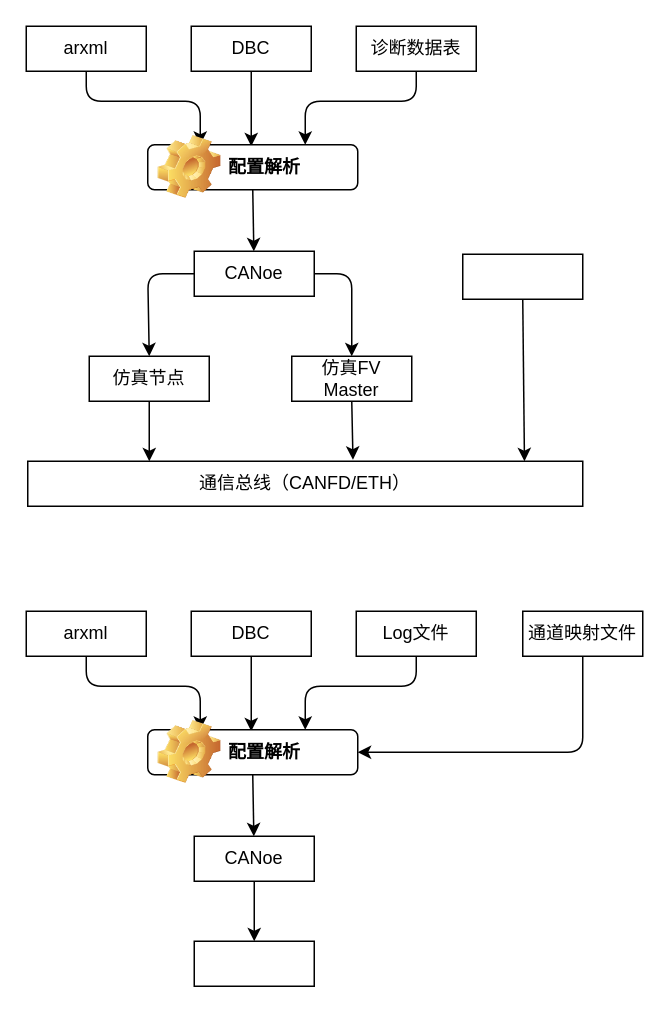
This 669x1013 diagram has some shape labels left out. Here are the shapes that lost their labels. From the top down, the centre of each, then its label:
At [522,276]: "ECU".
At [253,963]: "测试报告".
